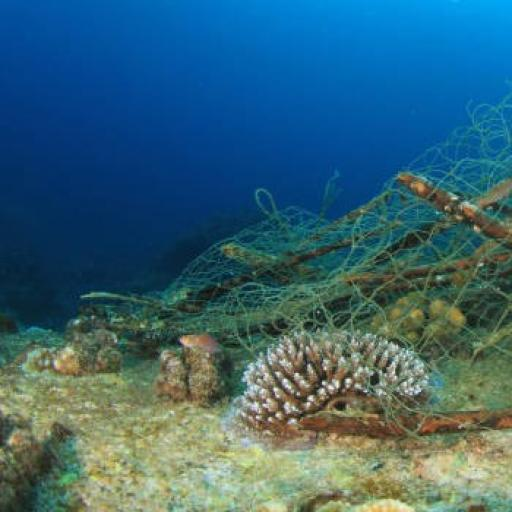net: (112, 90, 512, 367)
